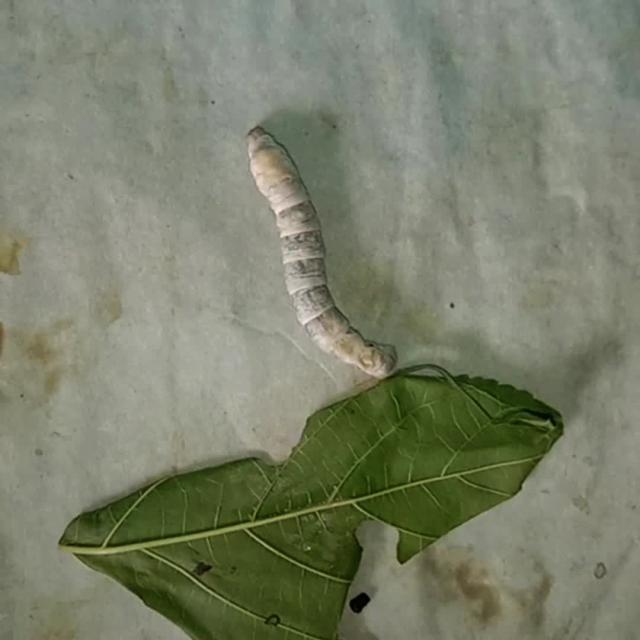Grasserie: (230, 105, 423, 389)
